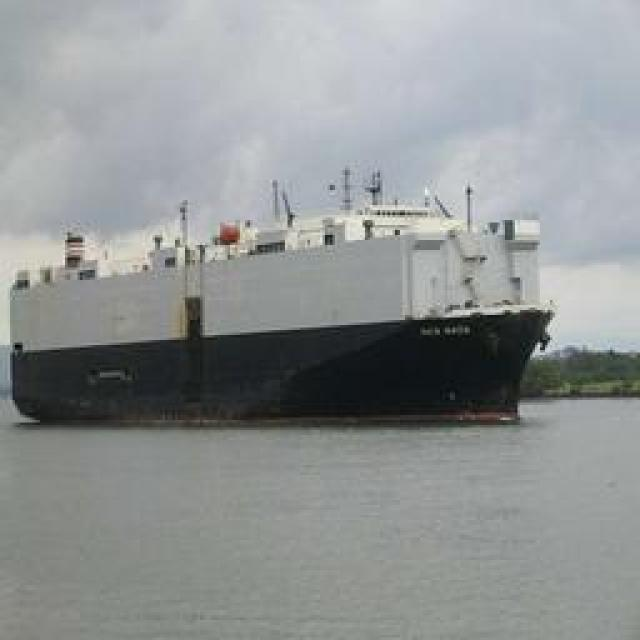CIV_Ship: (19, 175, 562, 425)
